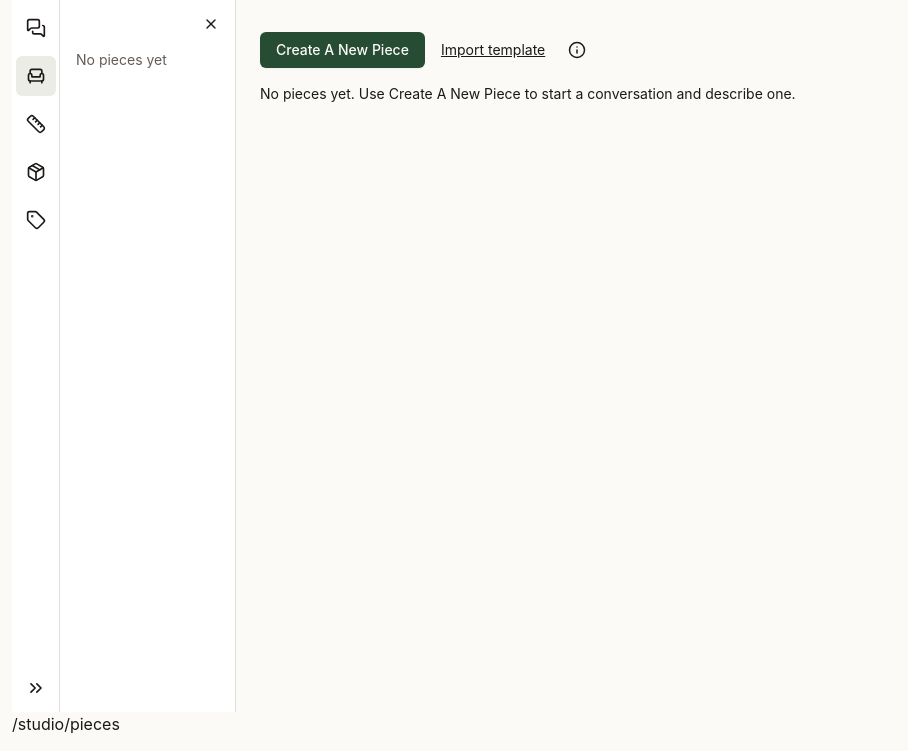
the tabs sit in a rail of icons that shows and hides its labels like the conversation's
This screenshot has width=908, height=751.
Expected: the text "Model Library" is not shown
Click the button named "Show labels" at [36, 688], box [16,668,56,708]
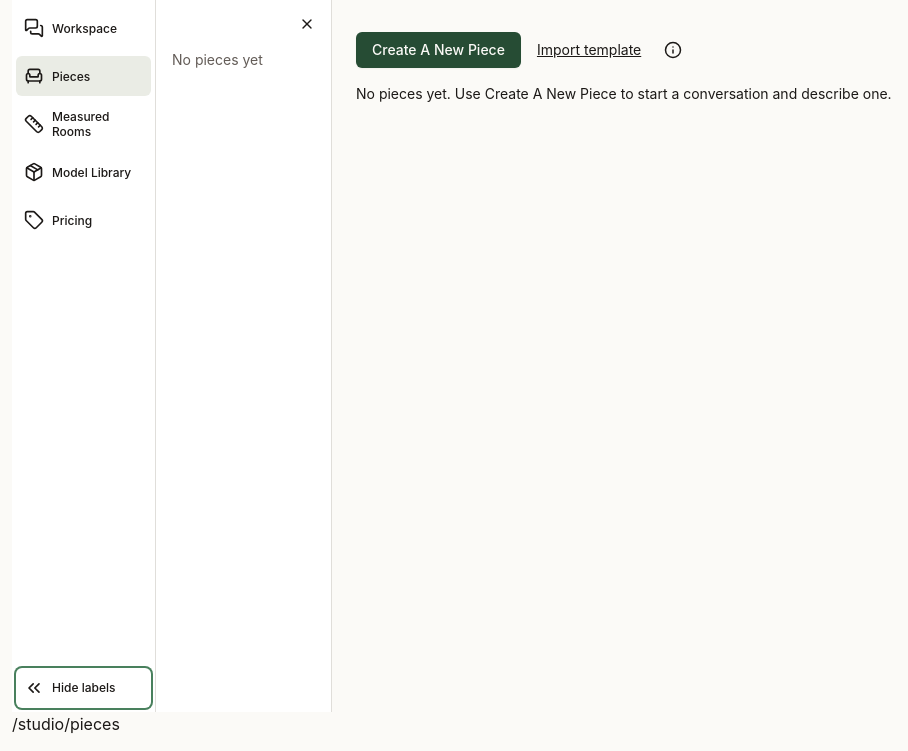
Expected: the text "Model Library" is shown, [52,164,131,180]
Click the button "Hide labels" at [84, 688], box [16,668,151,708]
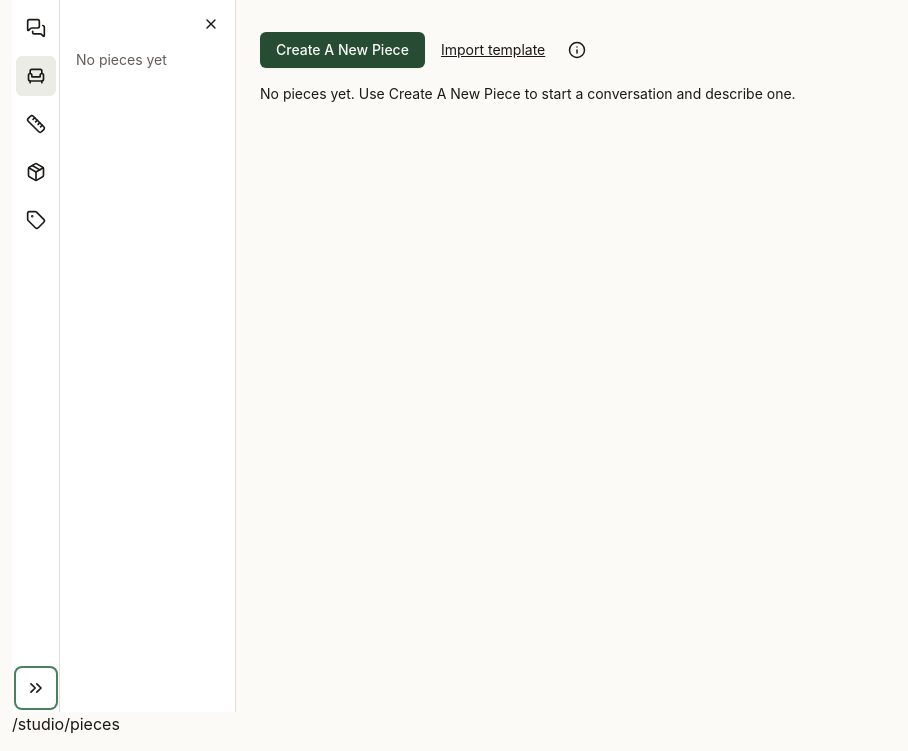
Expected: the text "Model Library" is gone
